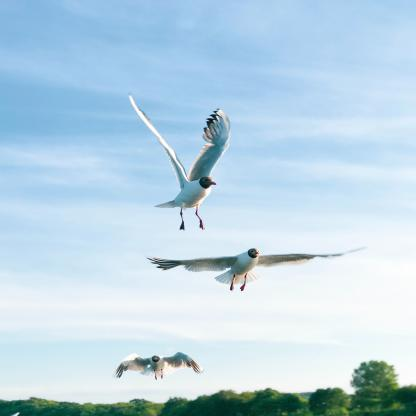bird: (128, 94, 232, 230), (148, 247, 367, 292), (115, 352, 205, 380)
